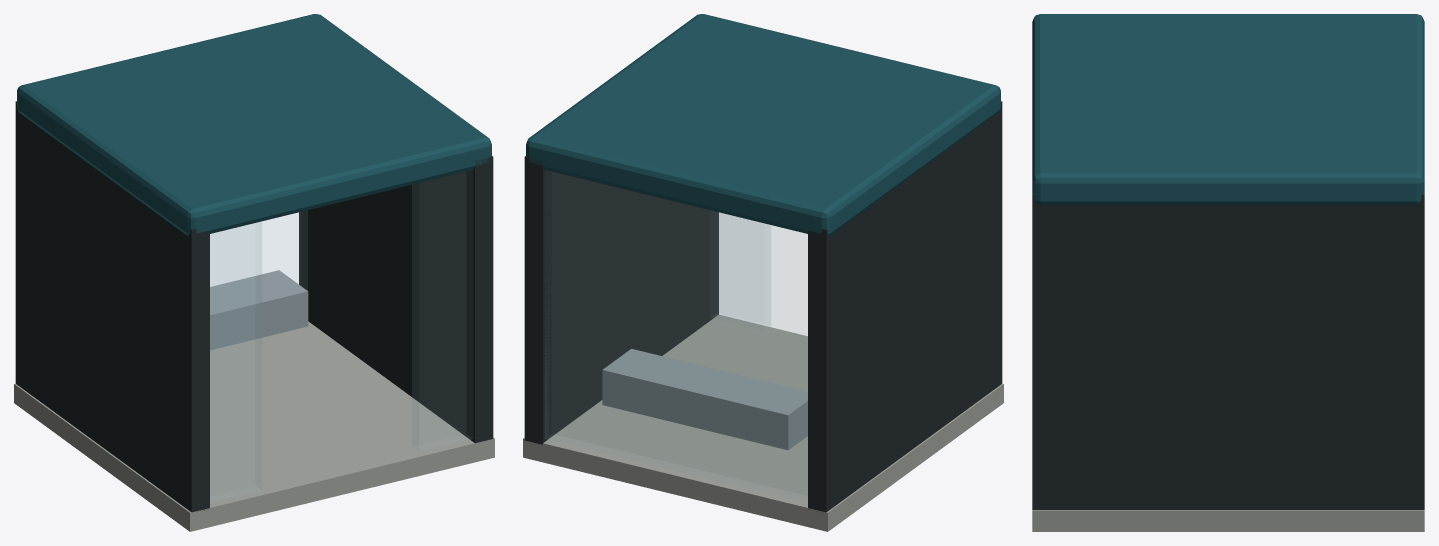
File: SM_StationDispatchCabin.fbx
3 views of the same model, side by side, from view 1: azimuth 30°, elevation 25°; view 2: azimuth 150°, elevation 25°; view 3: azimuth 270°, elevation 25° (orthographic). The views are drawn at different scales.
Visible parts, largest first — view 1: SM_StationDispatchCabin_UEExport; view 2: SM_StationDispatchCabin_UEExport; view 3: SM_StationDispatchCabin_UEExport.
Part boxes in pixels (left/top/right/bottom): SM_StationDispatchCabin_UEExport: left=14, top=14, right=494, bottom=531; SM_StationDispatchCabin_UEExport: left=523, top=14, right=1003, bottom=531; SM_StationDispatchCabin_UEExport: left=1032, top=14, right=1424, bottom=531.
Bounding box in the file's own units: 200 × 200 × 200.
